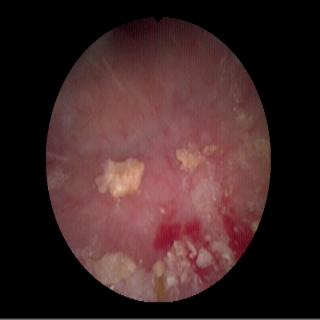stone: (95, 158, 144, 199), (94, 253, 138, 284), (153, 253, 178, 298), (175, 240, 196, 282), (177, 150, 205, 173), (196, 248, 216, 269)
tissue: (51, 22, 266, 256)
